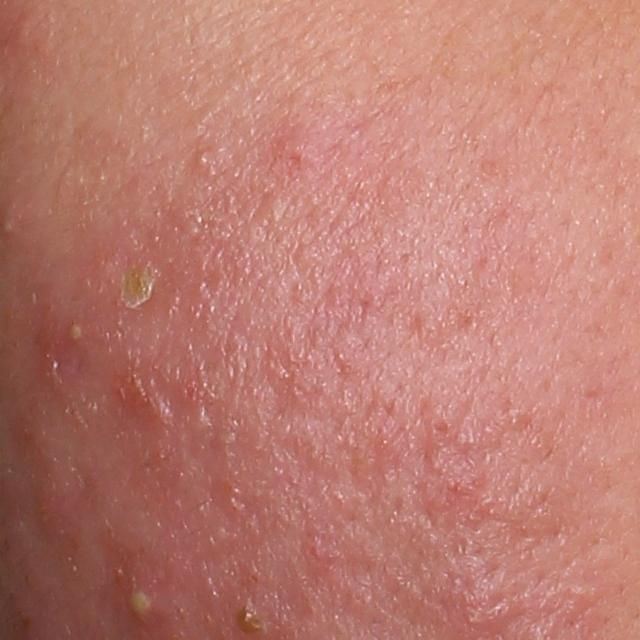pustule: (115, 572, 174, 636), (111, 253, 162, 318), (60, 313, 98, 347)
